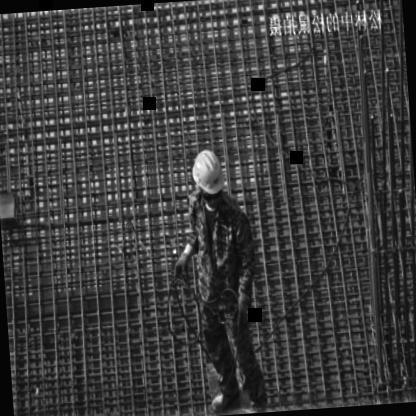helmet: (187, 146, 227, 211)
